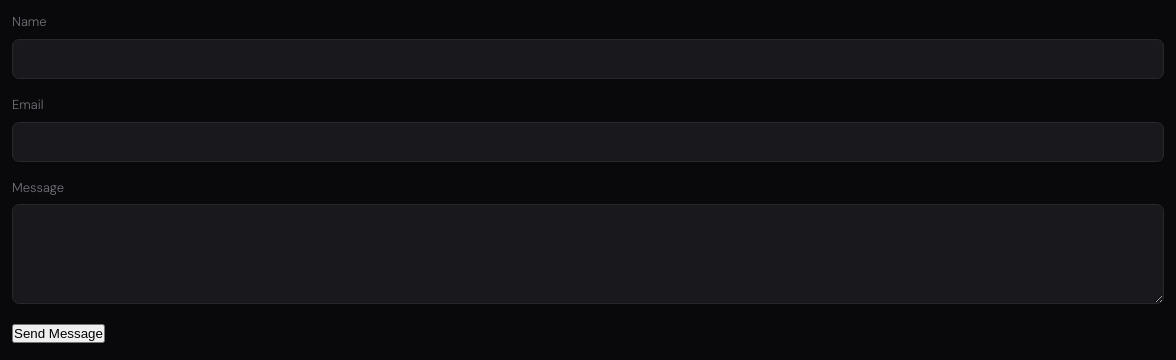
it: ContactForm — Successful Submission › shows success message after valid submission
Type "Jane" into the field with test id "input-name". click: x=588, y=59
box: [12,39,1164,79]
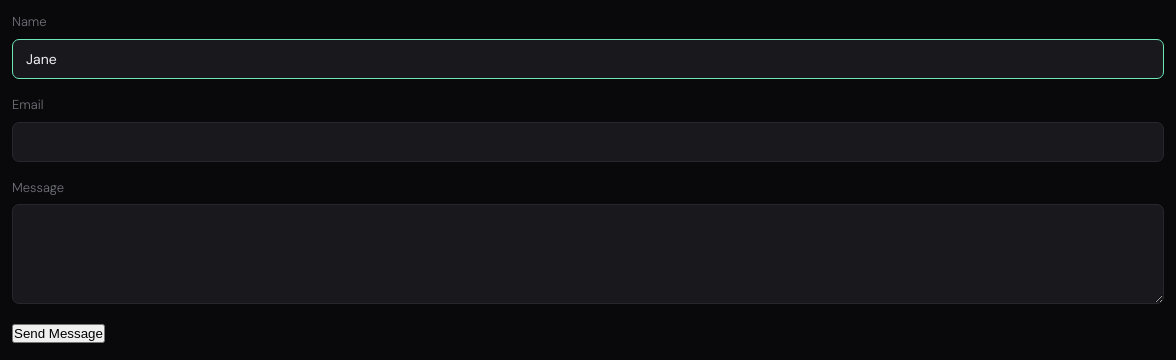
Type "jane@example.com" into the field with test id "input-email". click: x=588, y=142
box: [12,122,1164,162]
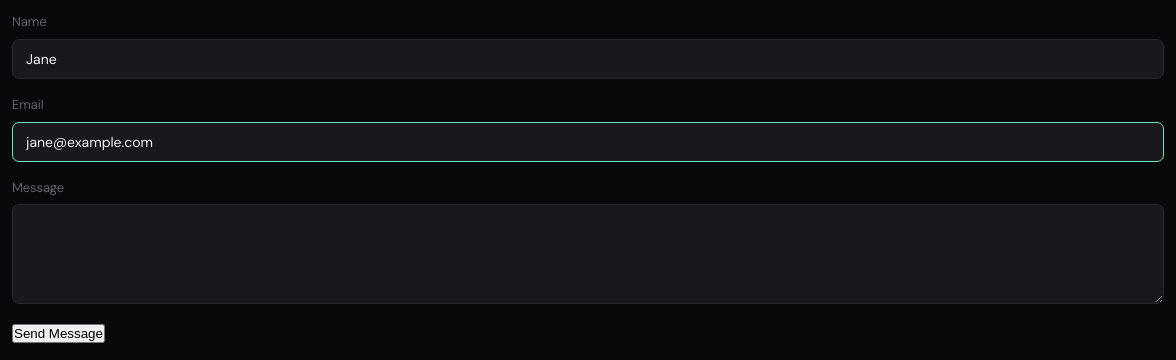
Type "Test message here." into the text box with test id "input-message". click: x=588, y=254
box: [12,204,1164,304]
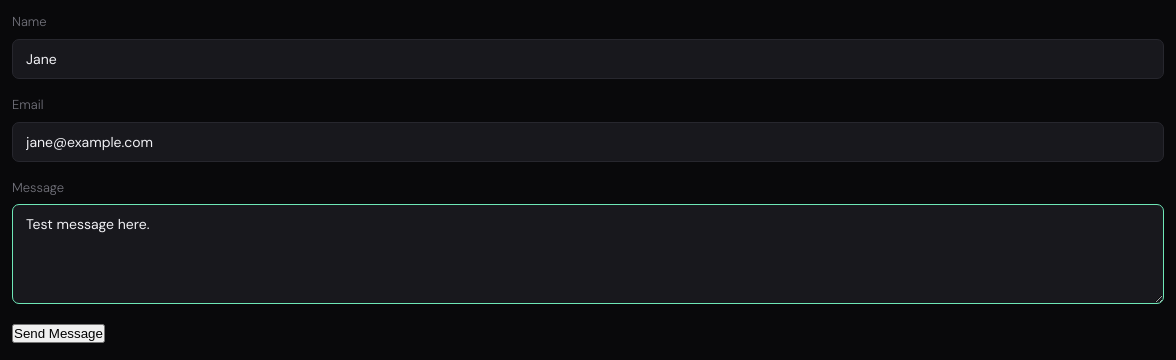
Click the button with test id "submit-btn". click: x=58, y=334
box: [12,324,105,343]
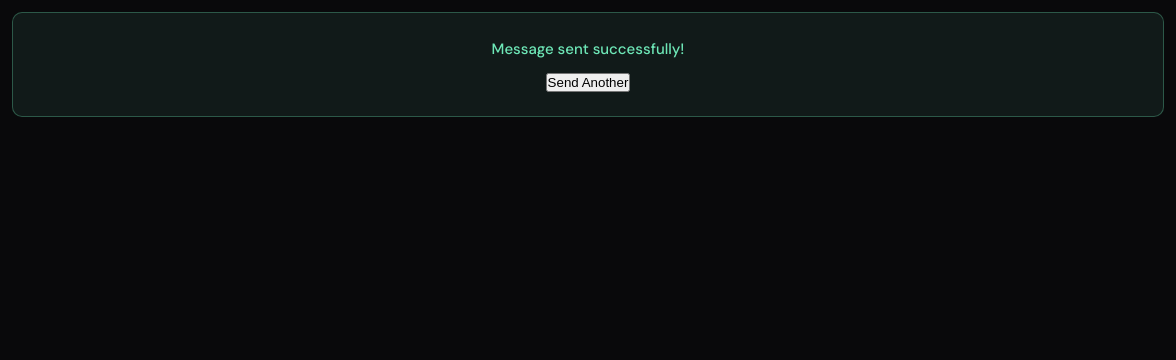
expect the element with test id "success-message" is shown: met, box [12,12,1164,117]
expect the element with test id "success-message" shows "Message sent successfully": met, box [492,39,684,59]
